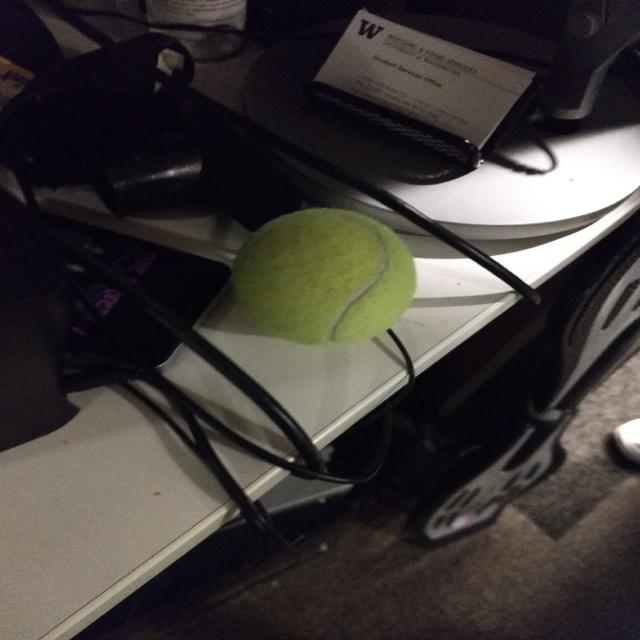Tennis-Ball: (229, 201, 426, 350)
